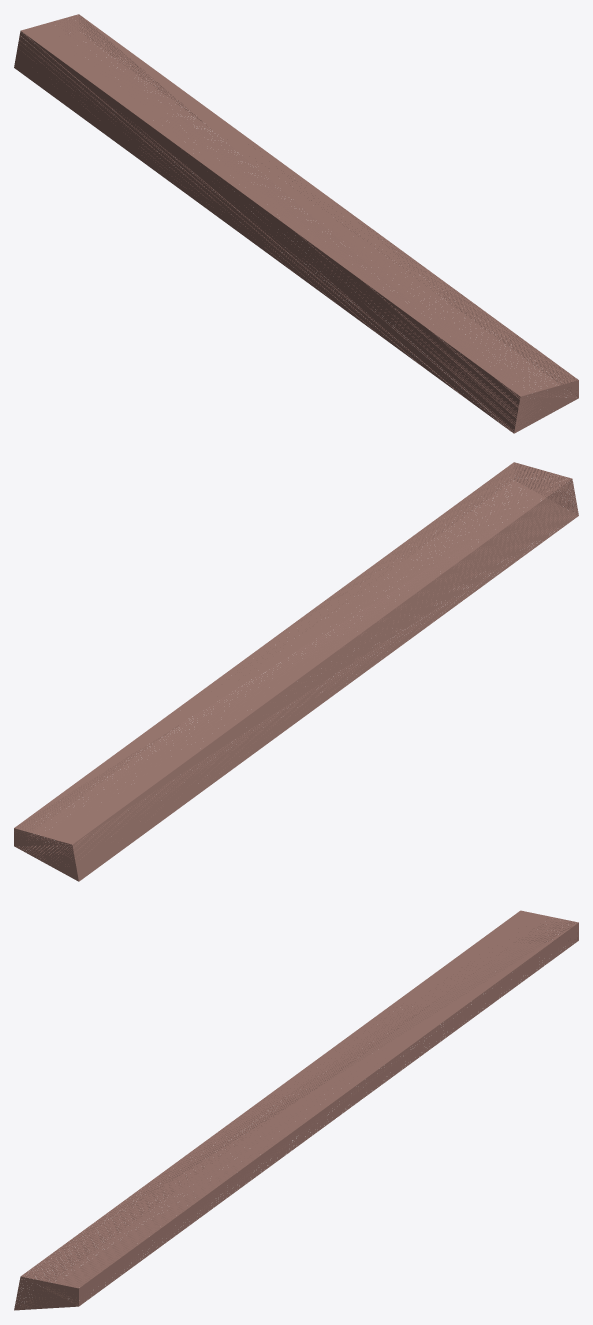
File: SW_ENV_EL_TrackBase_Walkway_Side_20m_Collision.fbx
The picture shows the model from 3 angles, top to bottom: view 1: azimuth 30°, elevation 25°; view 2: azimuth 150°, elevation 25°; view 3: azimuth 330°, elevation 25°; orthographic projection.
Parts seen in each view (by area): view 1: SW_ENV_EL_TrackBase_Walkway_Side_20m_Collision; view 2: SW_ENV_EL_TrackBase_Walkway_Side_20m_Collision; view 3: SW_ENV_EL_TrackBase_Walkway_Side_20m_Collision.
Part boxes in pixels (bbox=[...]): SW_ENV_EL_TrackBase_Walkway_Side_20m_Collision: bbox=[14, 14, 578, 433]; SW_ENV_EL_TrackBase_Walkway_Side_20m_Collision: bbox=[14, 462, 578, 881]; SW_ENV_EL_TrackBase_Walkway_Side_20m_Collision: bbox=[14, 910, 578, 1310].
Bounding box in the file's own units: 150 × 83.5 × 2000.
